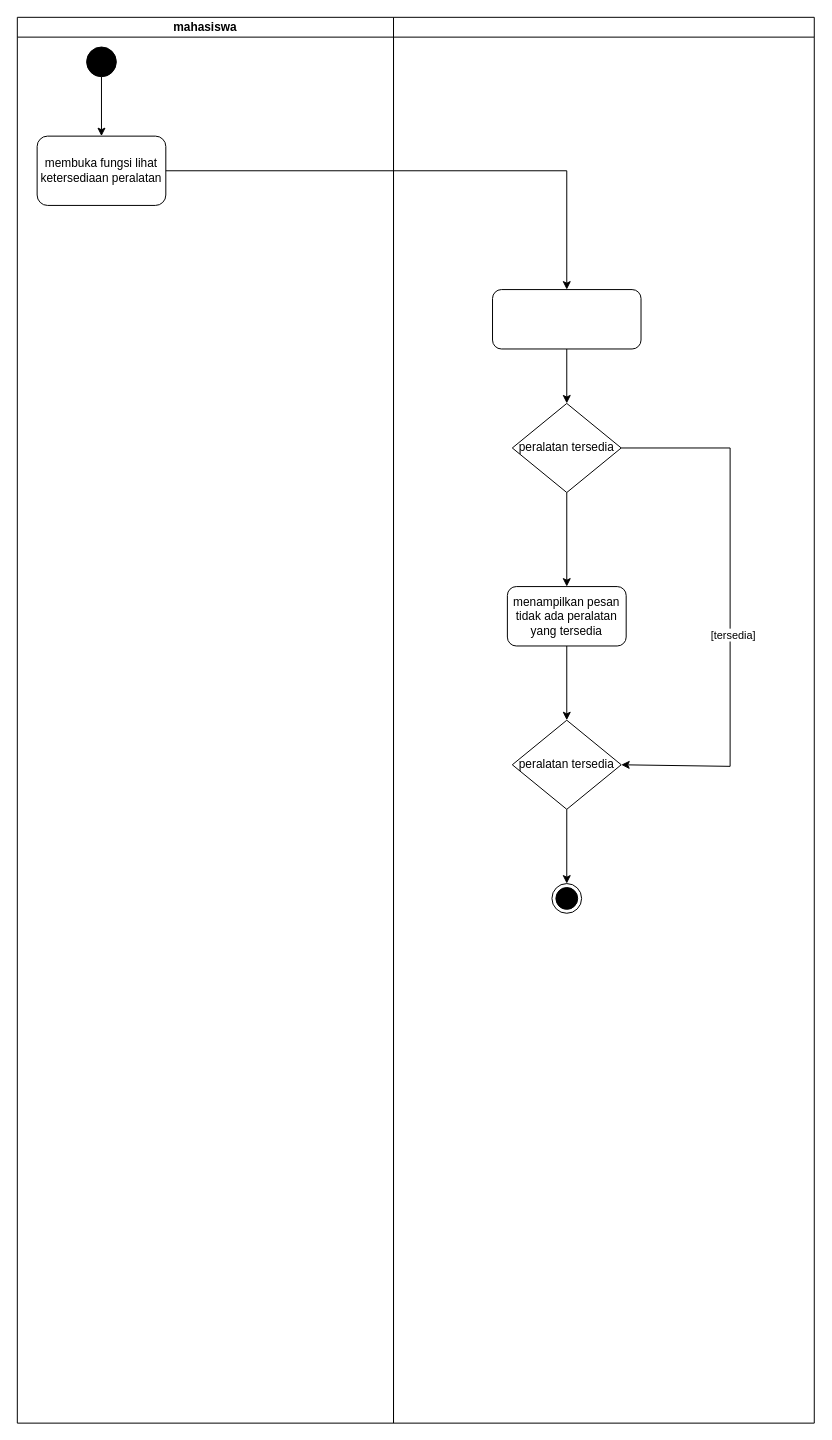
Some shapes in this 832 by 1440 pixel diagram are drawn without their labels. Each missing label, with the box of its shape:
melihat daftar peralatan beserta status ketersediaannya: (492, 289, 641, 349)
sistem: (393, 16, 814, 1423)
